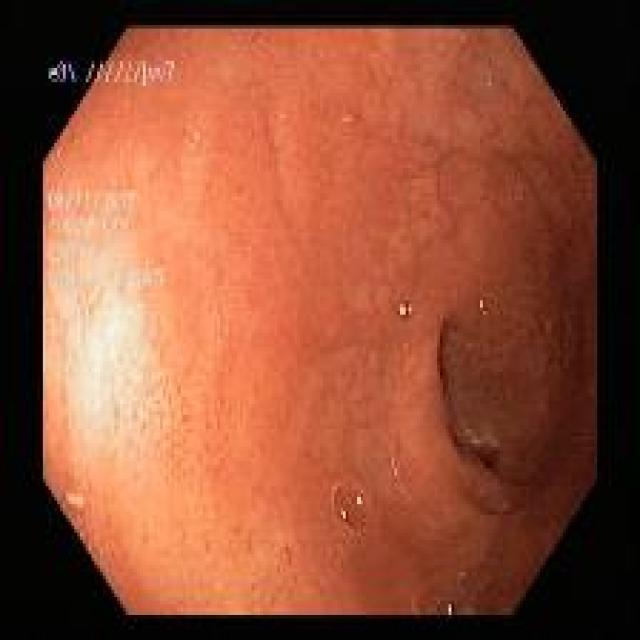ulcerative-colitis: (44, 28, 596, 615)
